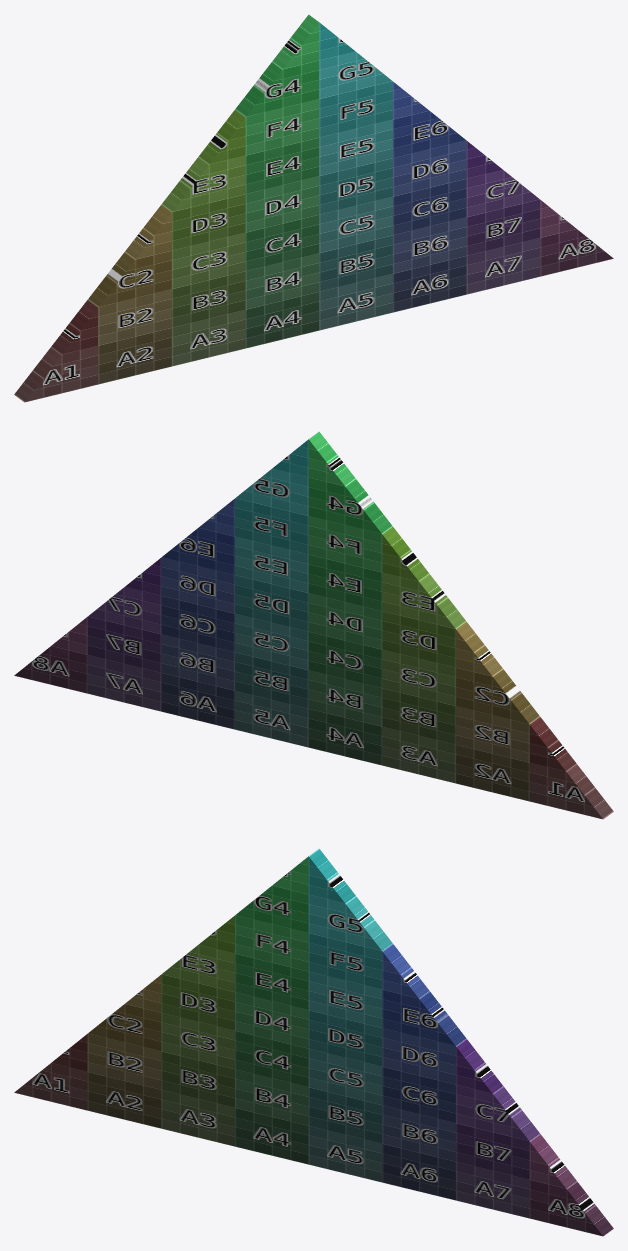
Rendered from ForceField.fbx.
3 renders of one model, top to bottom at view 1: azimuth 30°, elevation 25°; view 2: azimuth 150°, elevation 25°; view 3: azimuth 330°, elevation 25°, orthographic.
Visible parts, largest first — view 1: Polygon; view 2: Polygon; view 3: Polygon.
Part boxes in pixels (x1,y1,x2,y2): Polygon: (14,14,613,402); Polygon: (14,431,613,819); Polygon: (14,848,613,1236).
Size of the model in its own units: 800 by 400 by 25.
1 material, 1 textured.
